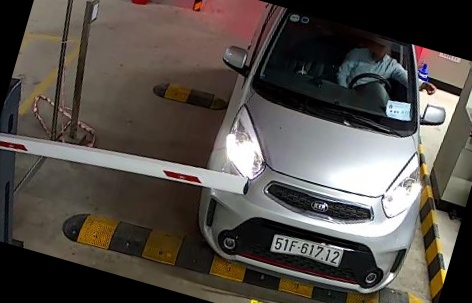plate: (267, 227, 347, 269)
